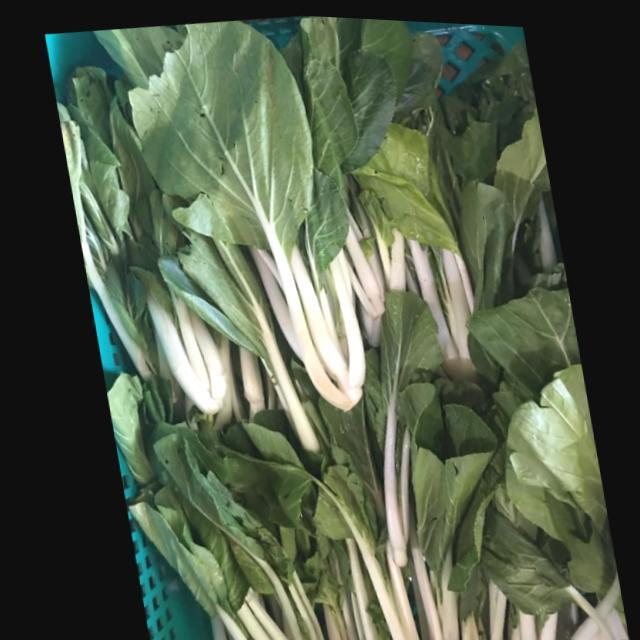biowaste: (128, 18, 361, 404), (55, 65, 259, 422), (300, 287, 453, 640), (489, 358, 621, 638), (194, 419, 352, 640), (428, 43, 555, 307), (357, 121, 471, 373), (122, 464, 283, 640), (406, 393, 493, 640), (282, 15, 396, 199), (102, 372, 227, 525), (464, 268, 576, 430), (337, 14, 441, 118), (91, 22, 188, 78)
